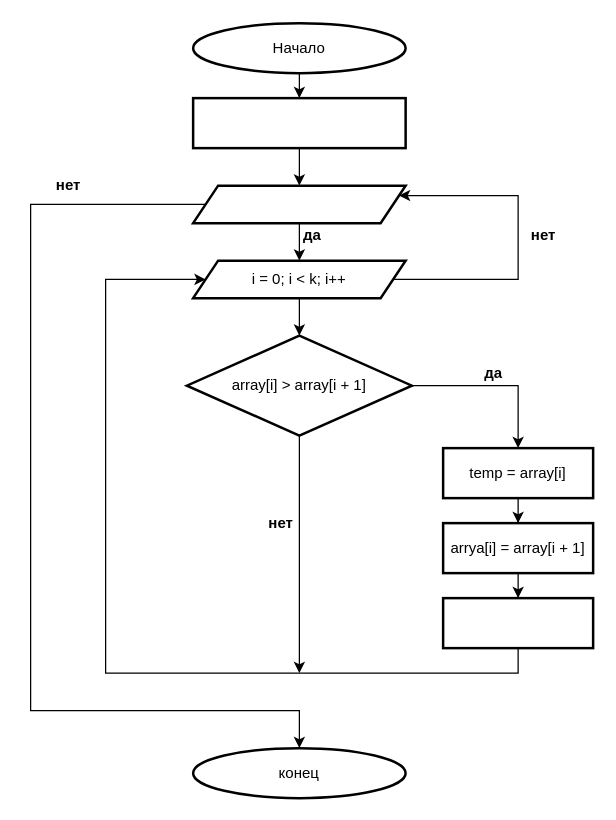
Image size: 616x820. Some labels were removed from this diagram. The shapes that lost their labels are listed below. From the top down, each one's centre as x and y in pixels, then its label:
the point at 298,122: Задаем массив int[] array = new int [length]
the point at 298,204: k = linght -1; k > 0; k--
the point at 517,622: array[i + 1] = temp
